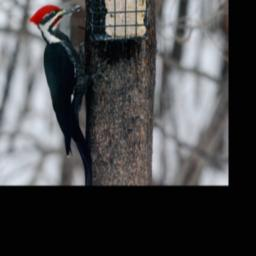Woodpecker: (30, 1, 111, 181)
